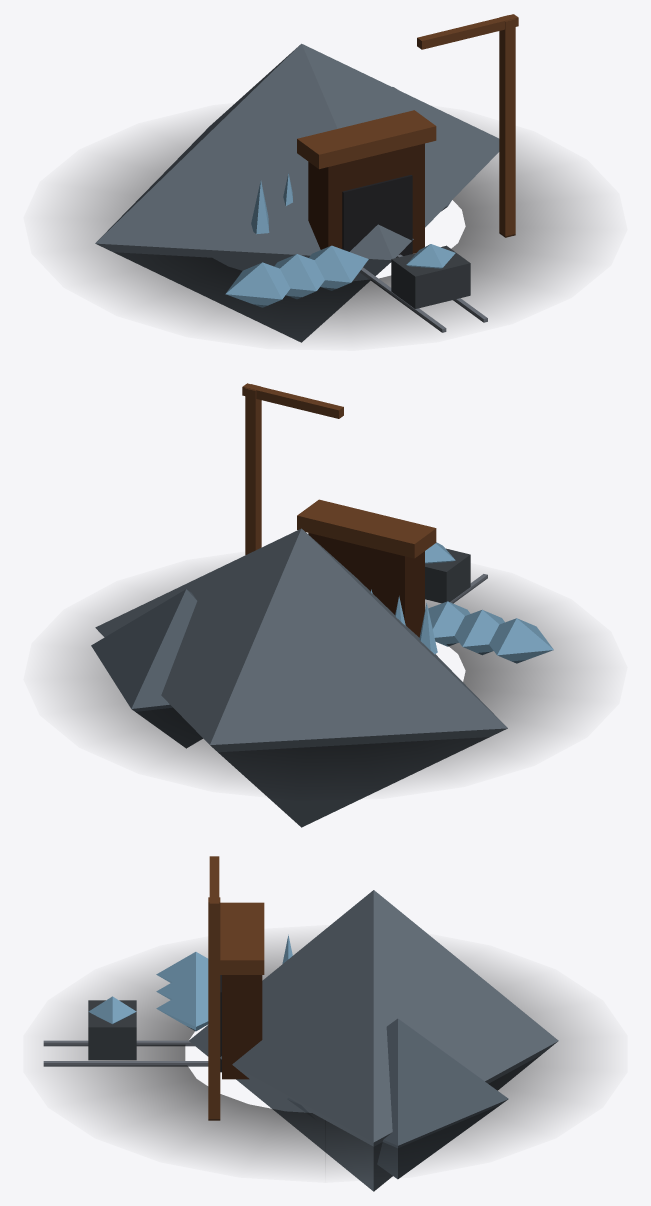
Rendered from iron_mine_t1.glb.
3 renders of one model, top to bottom at view 1: azimuth 30°, elevation 25°; view 2: azimuth 150°, elevation 25°; view 3: azimuth 270°, elevation 25°, orthographic.
Parts seen in each view (by area): view 1: iron_mine_t1; view 2: iron_mine_t1; view 3: iron_mine_t1.
Boxes of the visible parts, x1=… form: iron_mine_t1: x1=61, y1=14, x2=589, y2=342; iron_mine_t1: x1=61, y1=383, x2=589, y2=827; iron_mine_t1: x1=43, y1=856, x2=589, y2=1191.
Size of the model in its own units: 7.82 by 4.86 by 7.74.
